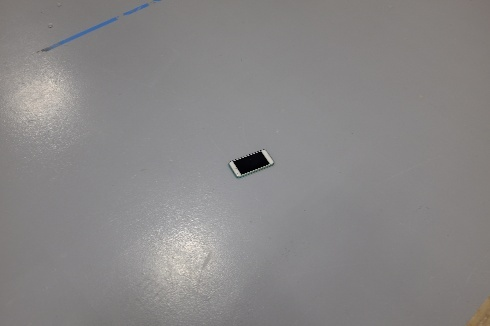phone: (228, 147, 277, 179)
